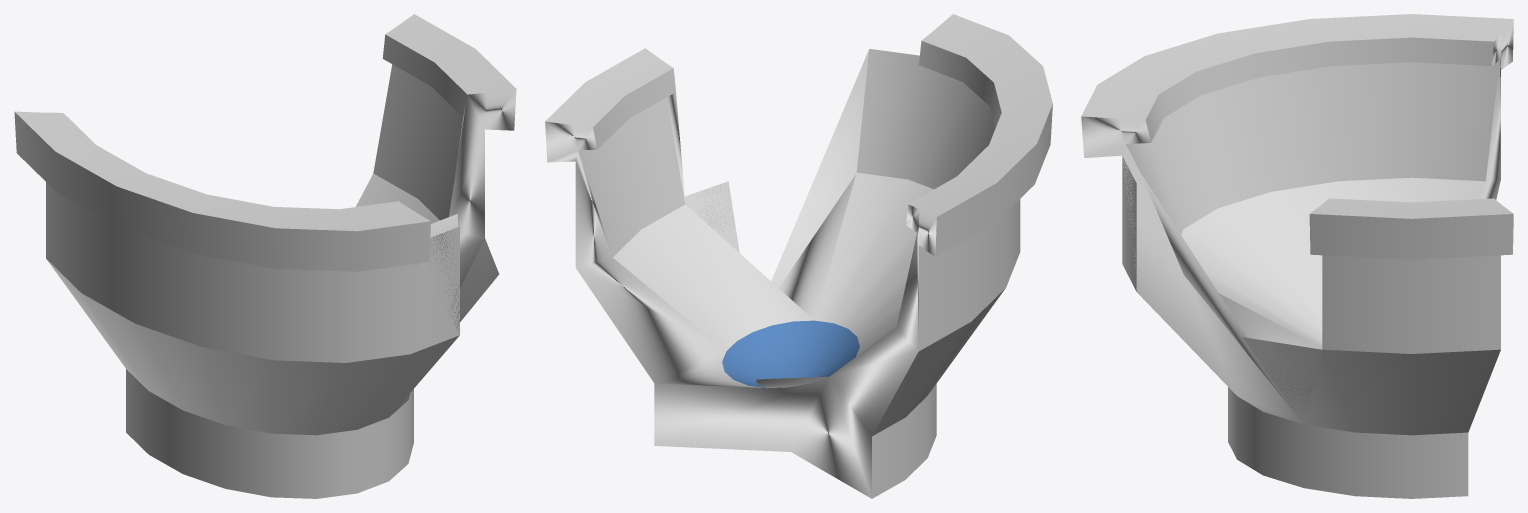
File: ToiletBroken2.fbx
The picture shows the model from 3 angles, left to right: view 1: azimuth 30°, elevation 25°; view 2: azimuth 150°, elevation 25°; view 3: azimuth 270°, elevation 25°; orthographic projection. The views are drawn at different scales.
Visible parts, largest first — view 1: pCube2; view 2: pCube2; view 3: pCube2.
Part boxes in pixels (x1=…): pCube2: x1=14, y1=14, x2=516, y2=498; pCube2: x1=545, y1=14, x2=1052, y2=498; pCube2: x1=1081, y1=14, x2=1513, y2=498.
Bounding box in the file's own units: 132 × 97.83 × 118.
